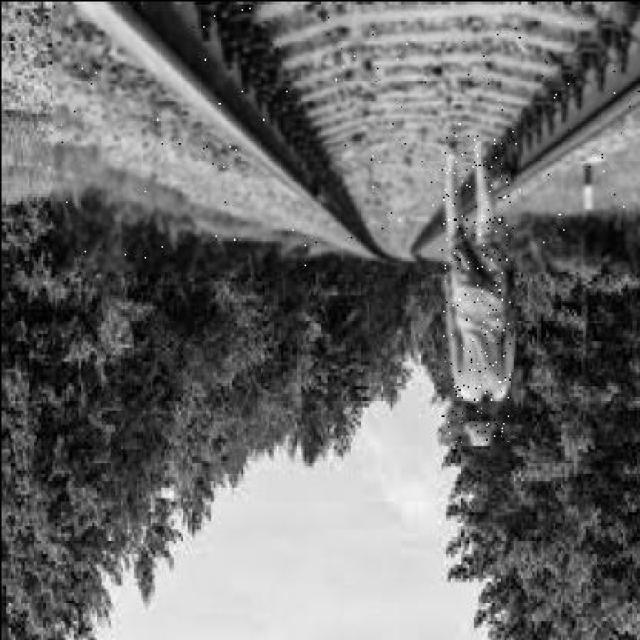danger: (440, 133, 509, 444)
rail: (52, 5, 640, 270)
